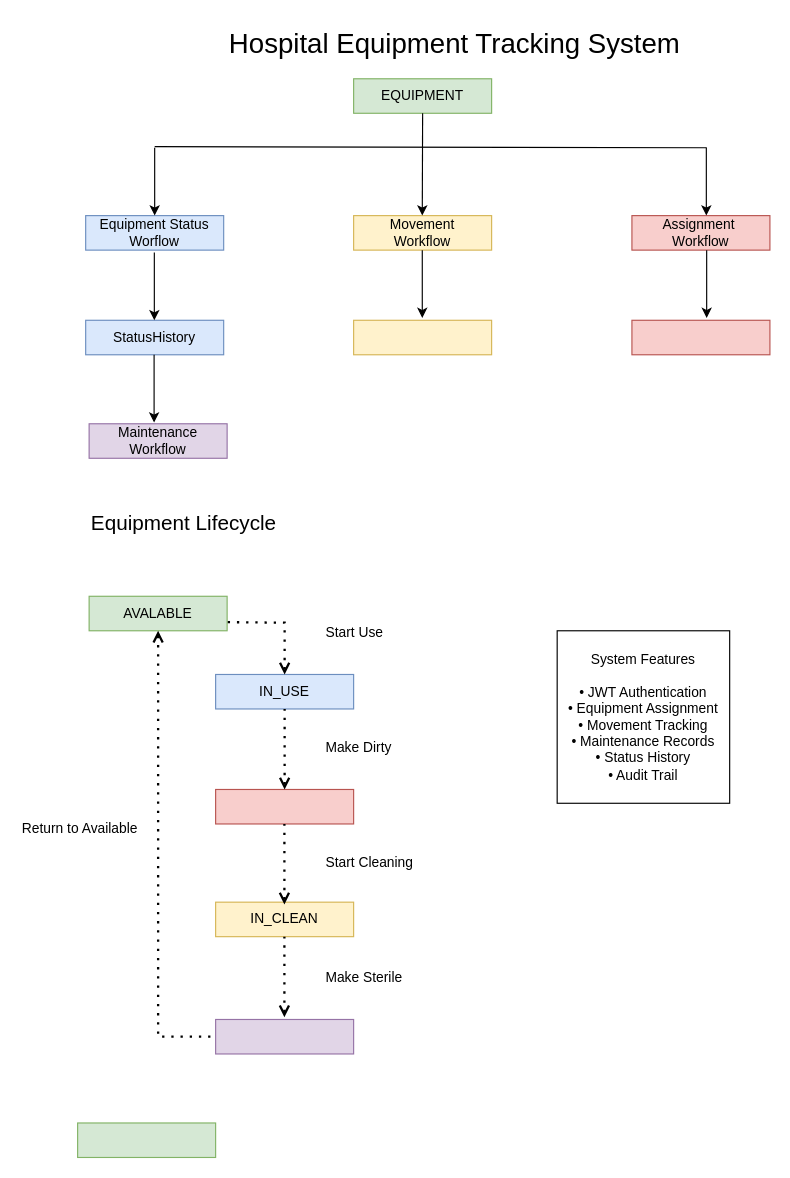
Image size: 790x1178. Some labels were removed from this diagram. The centre of each missing label's shape, as x and y in pixels:
AssignmentHistory: the point at 700,337
AVAILABLE: the point at 146,1139
DIRTY: the point at 284,806
MovementHistory: the point at 422,337
STERILE: the point at 284,1036
